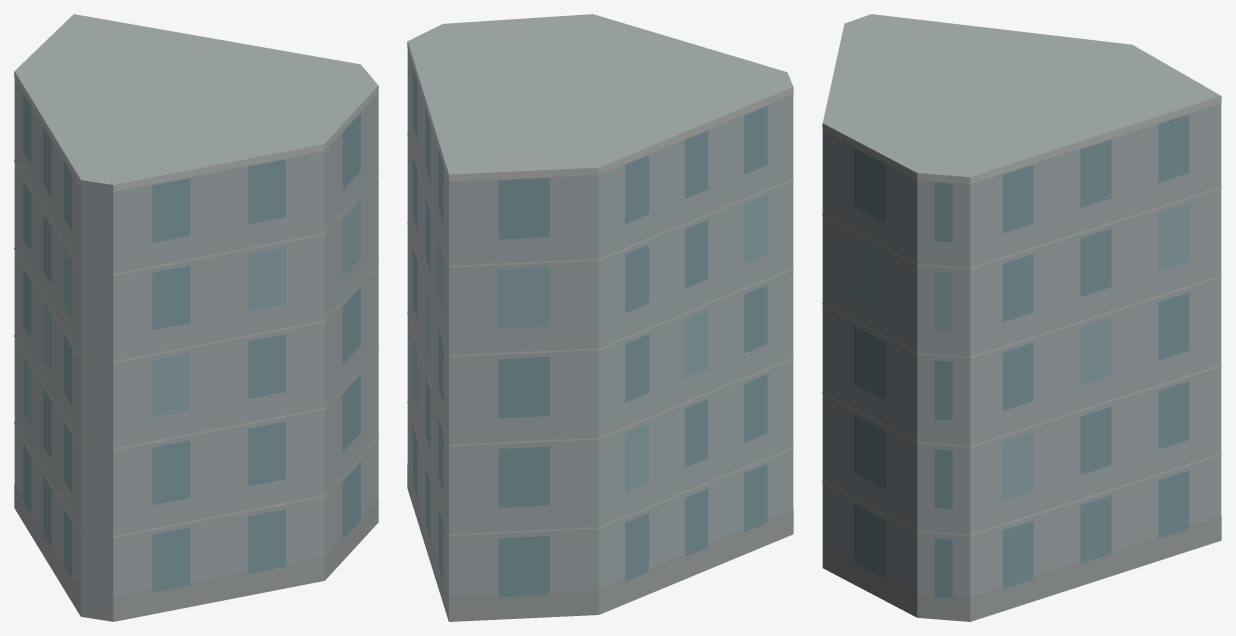
Rendered from survey-upis-32462658.glb.
The picture shows the model from 3 angles, left to right: view 1: azimuth 30°, elevation 25°; view 2: azimuth 150°, elevation 25°; view 3: azimuth 270°, elevation 25°; orthographic projection. The views are drawn at different scales.
Parts seen in each view (by area): view 1: survey-upis-32462658.tmp; view 2: survey-upis-32462658.tmp; view 3: survey-upis-32462658.tmp.
Part boxes in pixels (x1,y1,x2,y2): survey-upis-32462658.tmp: (14, 14, 378, 621); survey-upis-32462658.tmp: (407, 14, 793, 621); survey-upis-32462658.tmp: (822, 14, 1221, 621).
Size of the model in its own units: 12.02 by 15.25 by 12.42.
